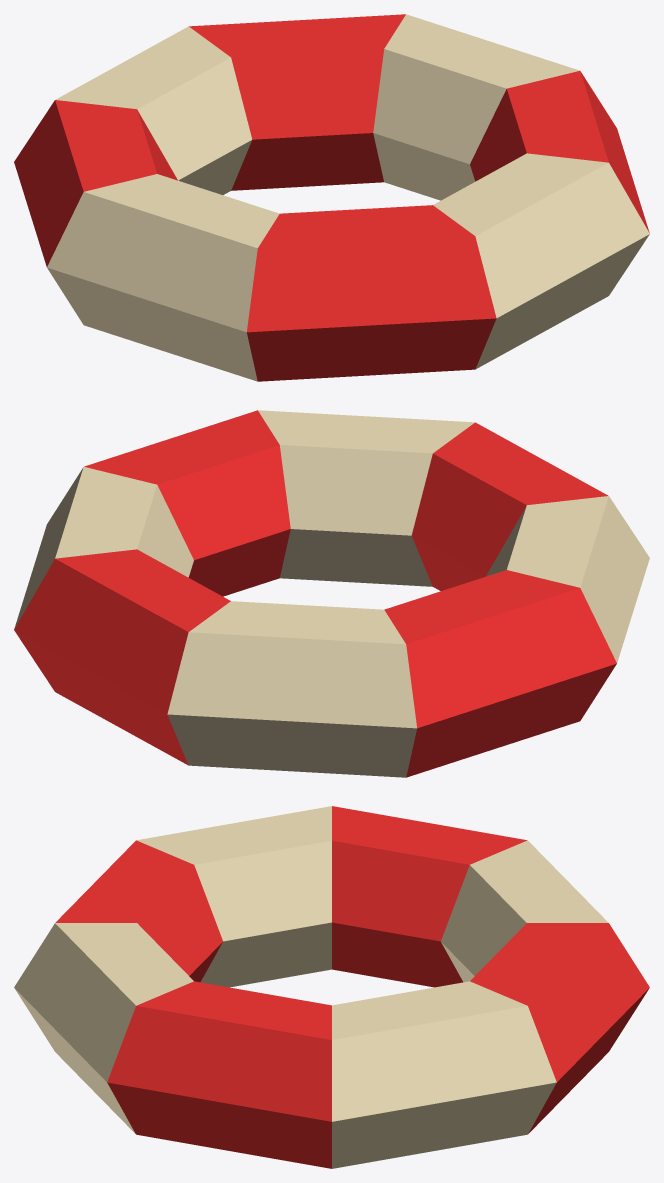
The model's file is curl.FBX.
3 renders of one model, top to bottom at view 1: azimuth 30°, elevation 25°; view 2: azimuth 150°, elevation 25°; view 3: azimuth 270°, elevation 25°, orthographic. The views are drawn at different scales.
Parts seen in each view (by area): view 1: curl; view 2: curl; view 3: curl.
Part boxes in pixels (x1,y1,x2,y2): curl: [14, 14, 649, 381]; curl: [14, 410, 649, 777]; curl: [14, 806, 649, 1168].
Size of the model in its own units: 9.65 by 2.16 by 9.65.
